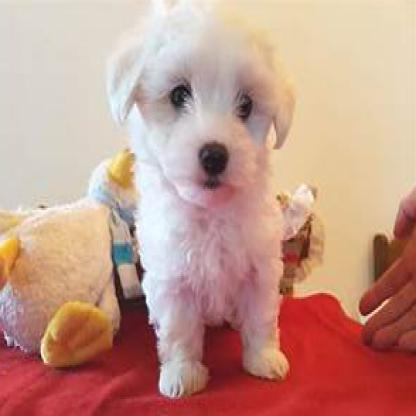dog: (103, 0, 297, 403)
